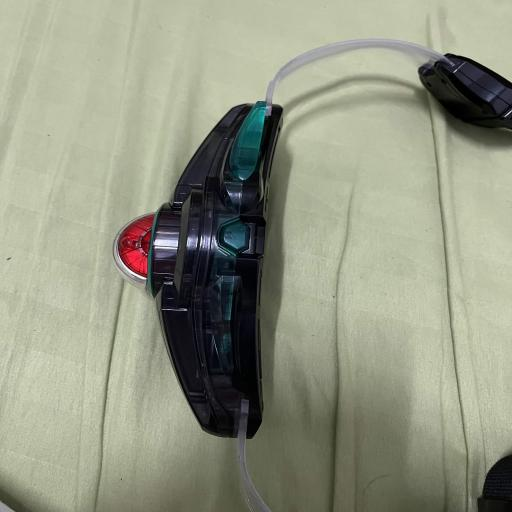zeztzdriver: (114, 102, 282, 445), (265, 39, 452, 116), (418, 54, 512, 130)
